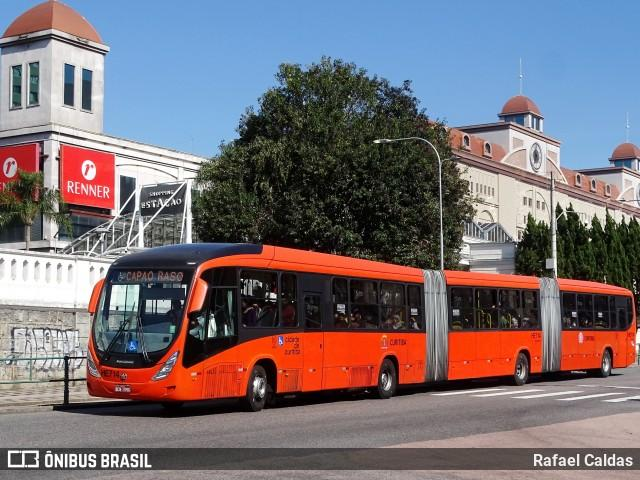CAPAO RASO: (123, 269, 188, 285)
